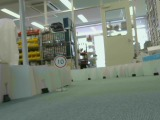speed_10: (53, 55, 67, 68)
